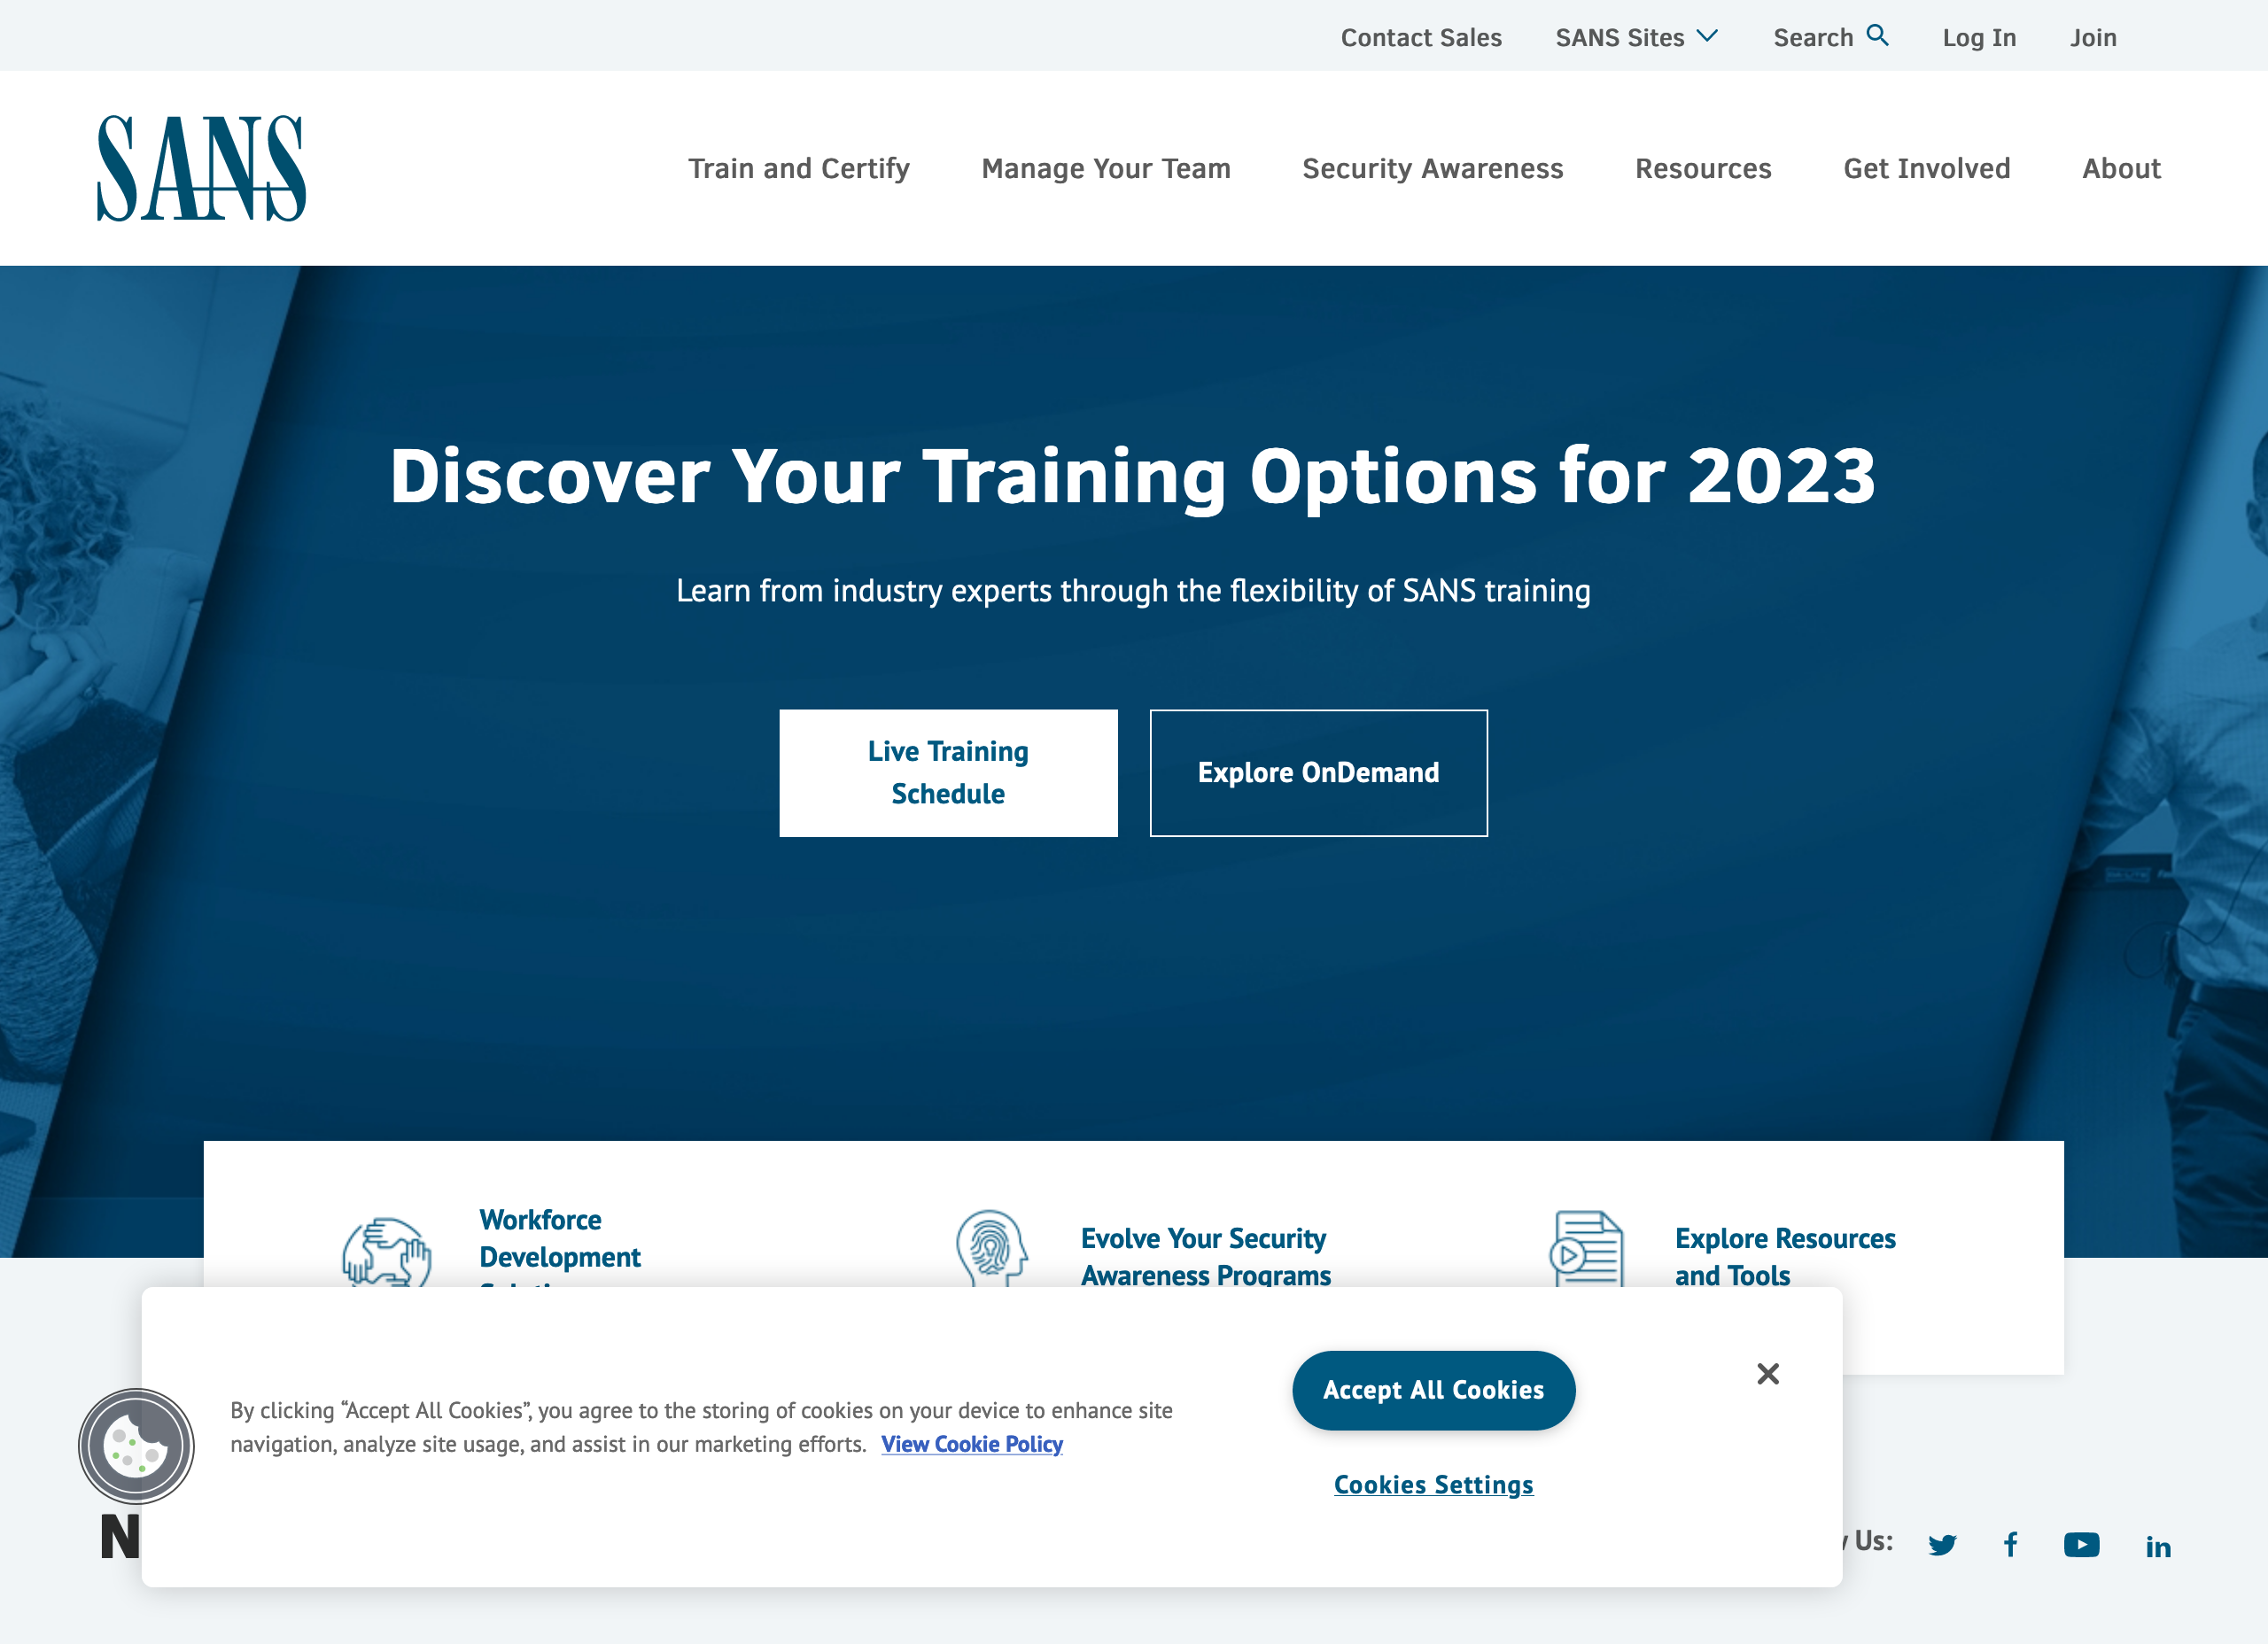Login: (1932, 9, 2039, 63)
